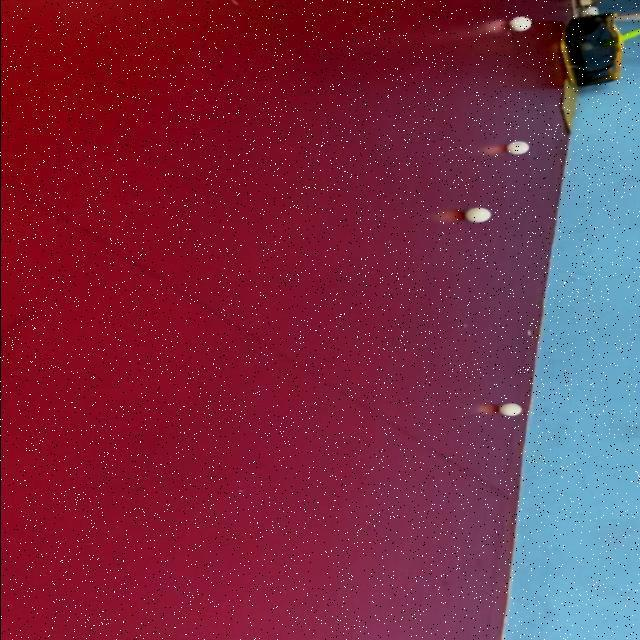ping-pong-ball: (459, 200, 499, 226), (492, 398, 534, 421), (502, 10, 539, 36), (500, 137, 539, 159)
